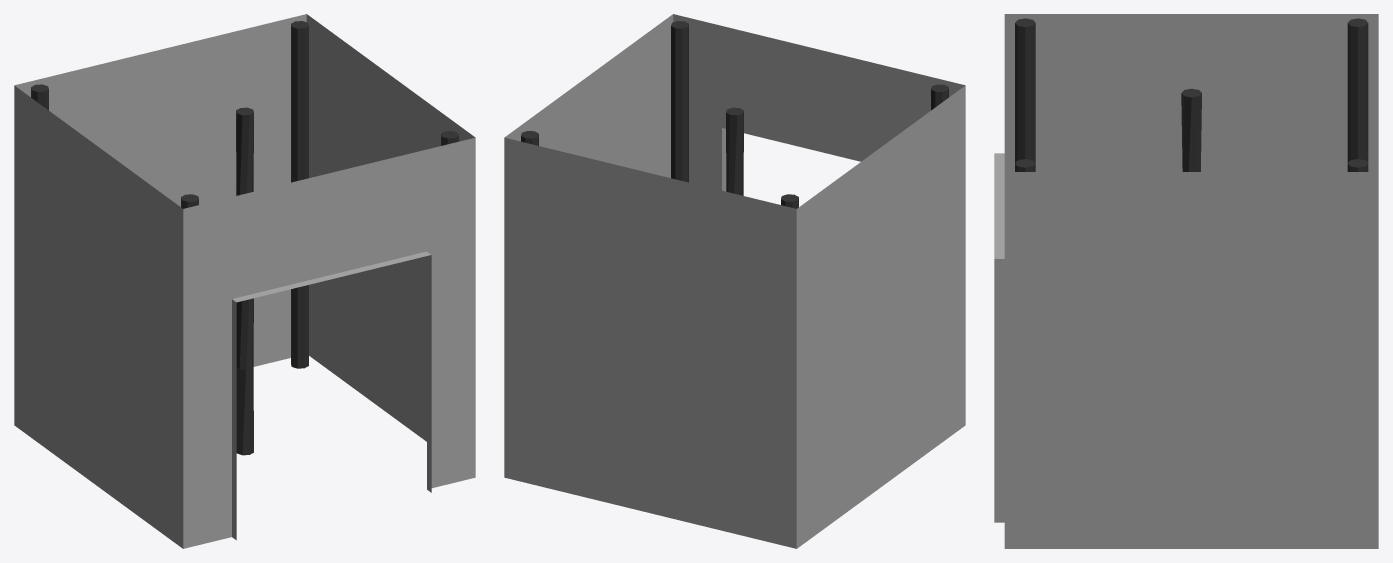
The model's file is elevatorShaft1.fbx.
The picture shows the model from 3 angles, left to right: view 1: azimuth 30°, elevation 25°; view 2: azimuth 150°, elevation 25°; view 3: azimuth 270°, elevation 25°; orthographic projection. The views are drawn at different scales.
Visible parts, largest first — view 1: Shaft; view 2: Shaft; view 3: Shaft.
Boxes of the visible parts, box(x1,y1,x2,y2) form: Shaft: box(14, 14, 475, 548); Shaft: box(504, 14, 965, 548); Shaft: box(994, 14, 1378, 548).
Bounding box in the file's own units: 360 × 400 × 370.
